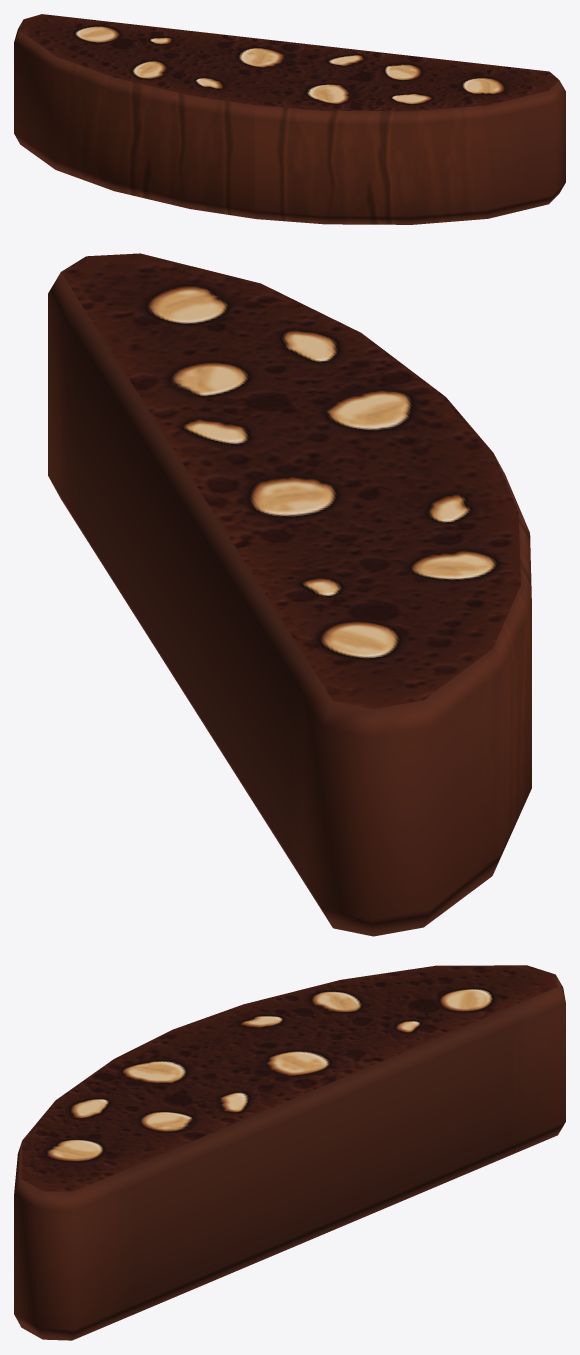
The model's file is 007-Biscotti_02.FBX.
3 views of the same model, one above another, from view 1: azimuth 30°, elevation 25°; view 2: azimuth 150°, elevation 25°; view 3: azimuth 270°, elevation 25° (orthographic). The views are drawn at different scales.
Parts seen in each view (by area): view 1: 007-Biscotti_02; view 2: 007-Biscotti_02; view 3: 007-Biscotti_02.
Boxes of the visible parts, left/top/right/bottom form: 007-Biscotti_02: left=14, top=14, right=565, bottom=224; 007-Biscotti_02: left=48, top=253, right=531, bottom=936; 007-Biscotti_02: left=14, top=965, right=565, bottom=1340.
Bounding box in the file's own units: 16.22 × 4.82 × 16.22.
